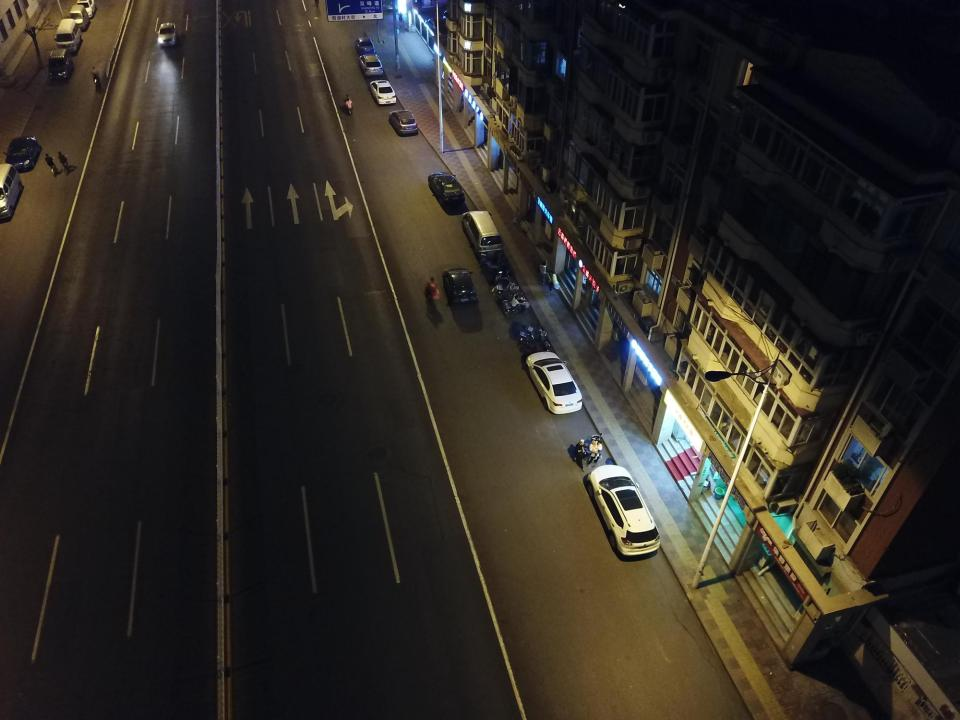car: (586, 463, 662, 560), (524, 351, 583, 414), (443, 267, 478, 314), (427, 171, 465, 208), (4, 137, 40, 171), (389, 109, 420, 137), (369, 79, 399, 105), (359, 53, 383, 76), (354, 37, 376, 55), (75, 1, 96, 18)
van: (460, 206, 505, 259), (0, 164, 24, 217), (46, 47, 75, 81), (54, 17, 80, 51), (67, 5, 88, 31)
